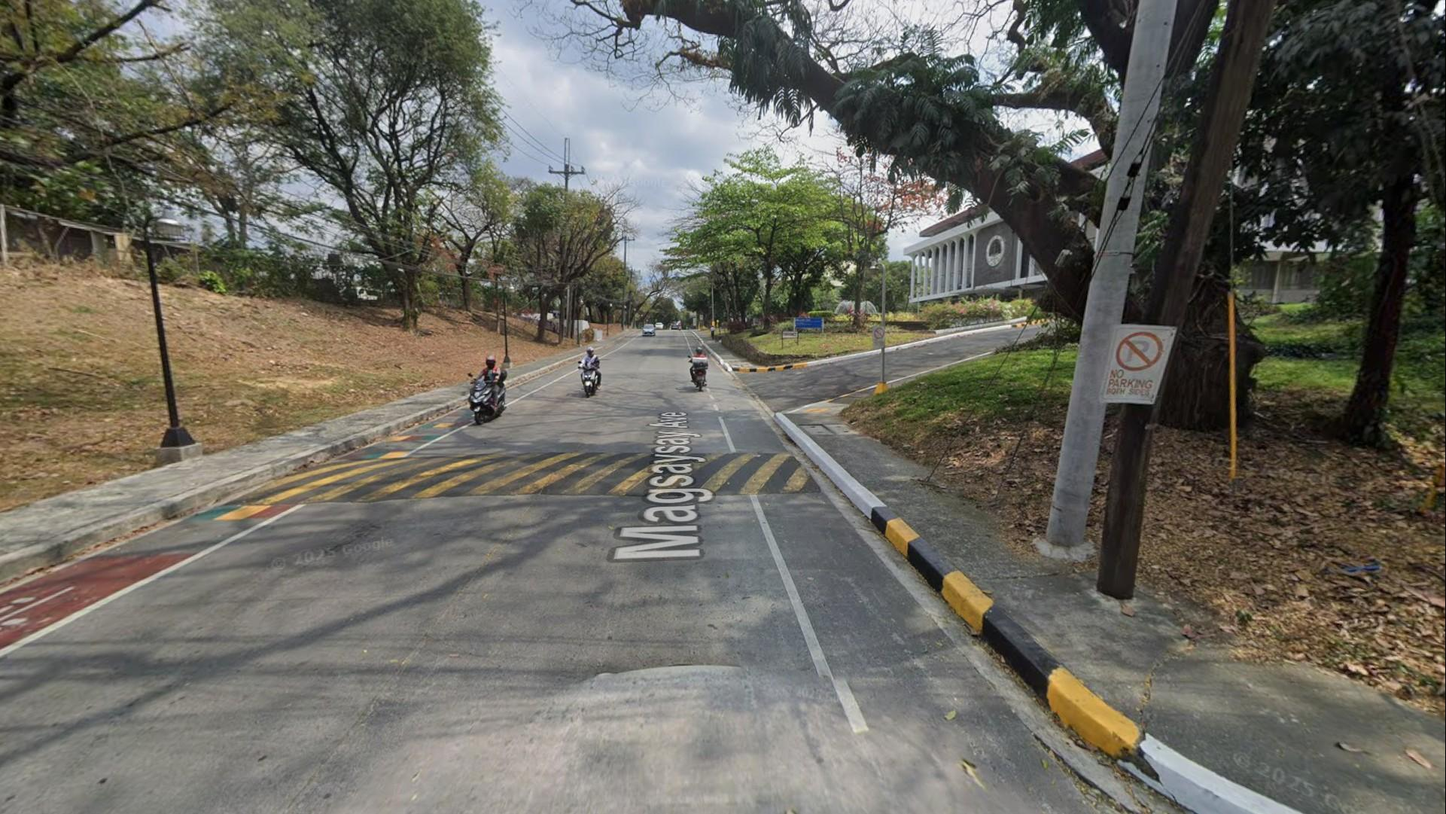pedestrian: (709, 325, 716, 340)
